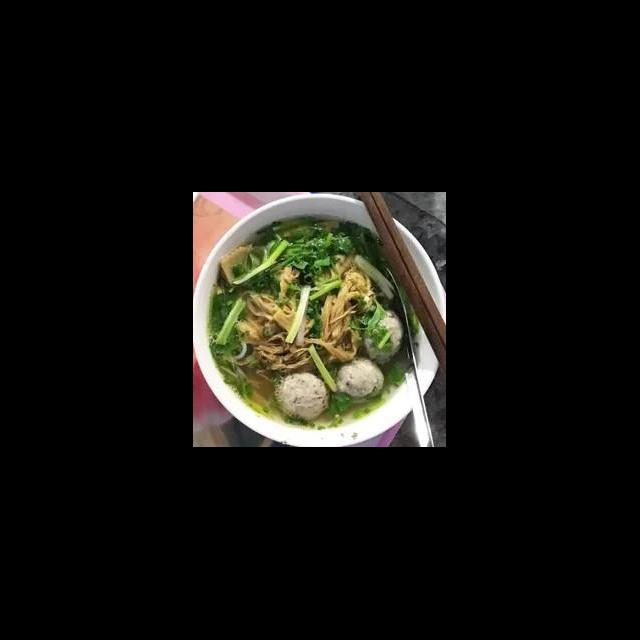vien moc: (272, 366, 332, 424), (330, 354, 388, 402), (361, 308, 406, 362)
